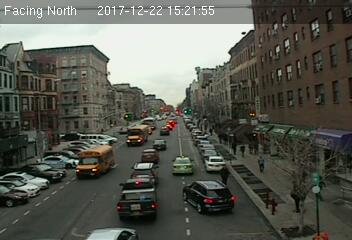car: (180, 179, 234, 211), (116, 179, 159, 219), (129, 161, 158, 182), (171, 155, 193, 173), (206, 156, 227, 172), (141, 149, 159, 164), (153, 138, 166, 150)
pedestrian: (256, 154, 266, 175)
truck: (75, 144, 116, 175), (125, 124, 150, 144)
